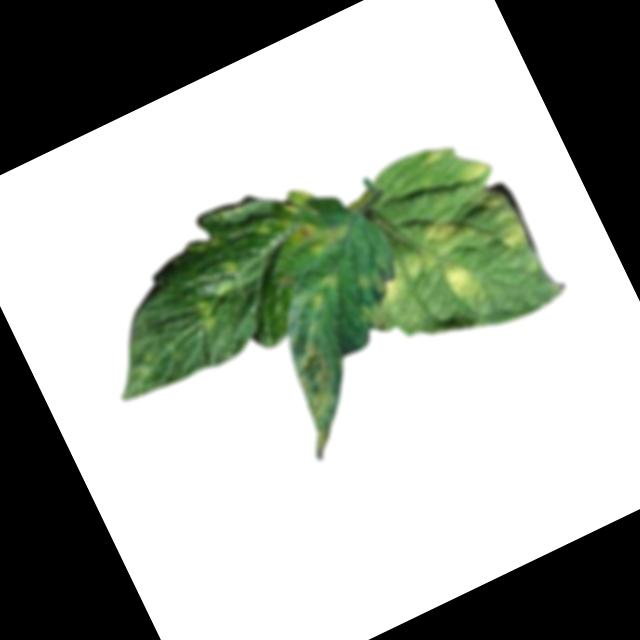Leaf_Mold: (285, 206, 356, 266), (369, 245, 434, 305), (436, 246, 493, 311), (417, 207, 476, 260), (274, 180, 321, 225), (491, 215, 534, 259), (305, 269, 349, 310), (453, 153, 494, 190), (190, 295, 223, 334)
